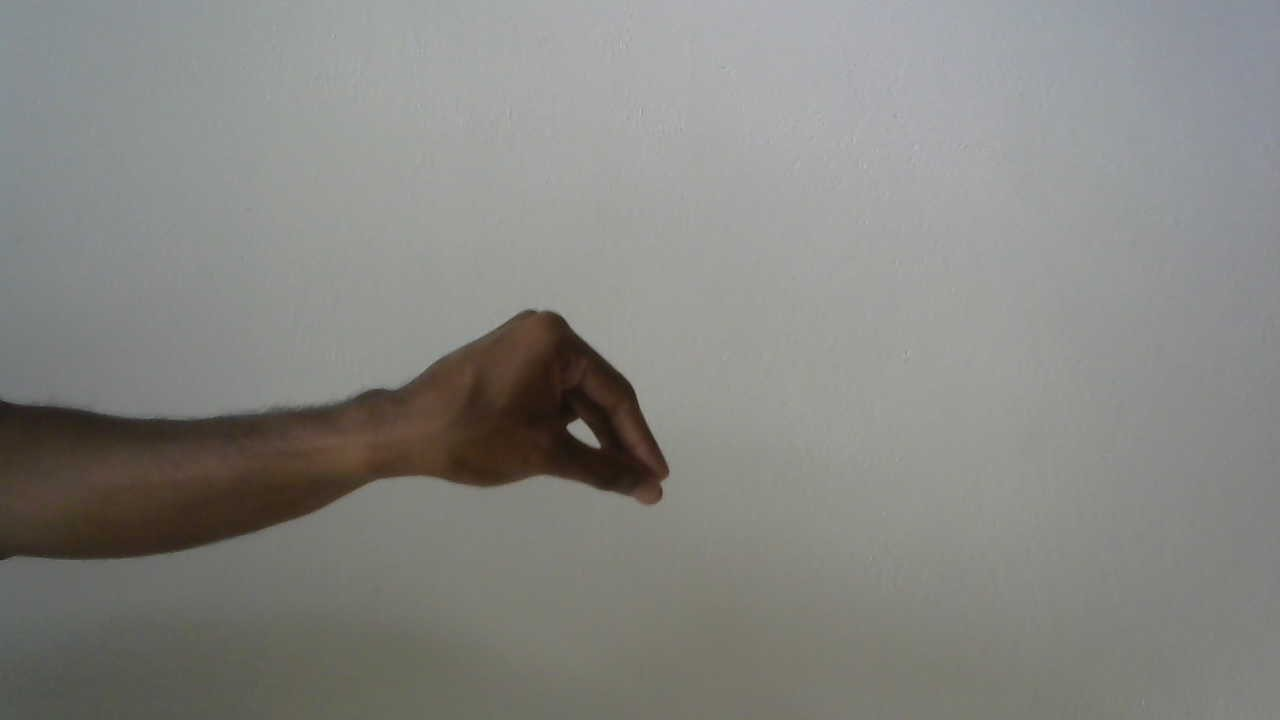no: (383, 290, 691, 537)
